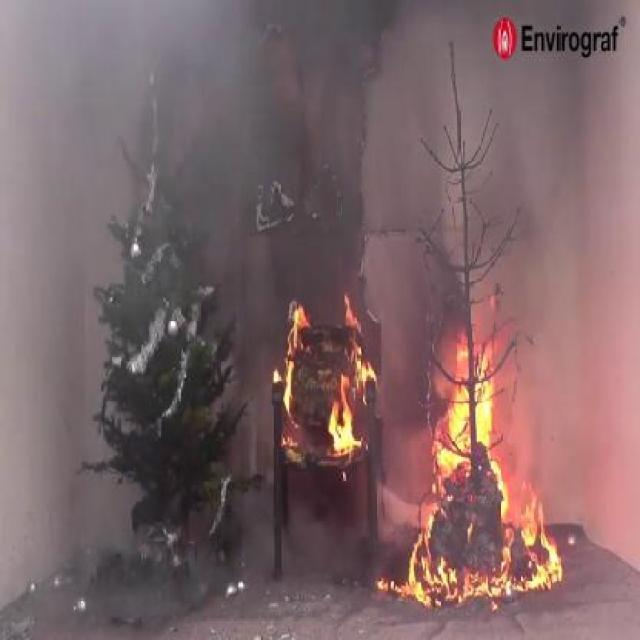fire: (414, 364, 548, 598), (280, 287, 402, 458)
smoke: (4, 18, 260, 640), (223, 41, 568, 246), (480, 191, 634, 337)
